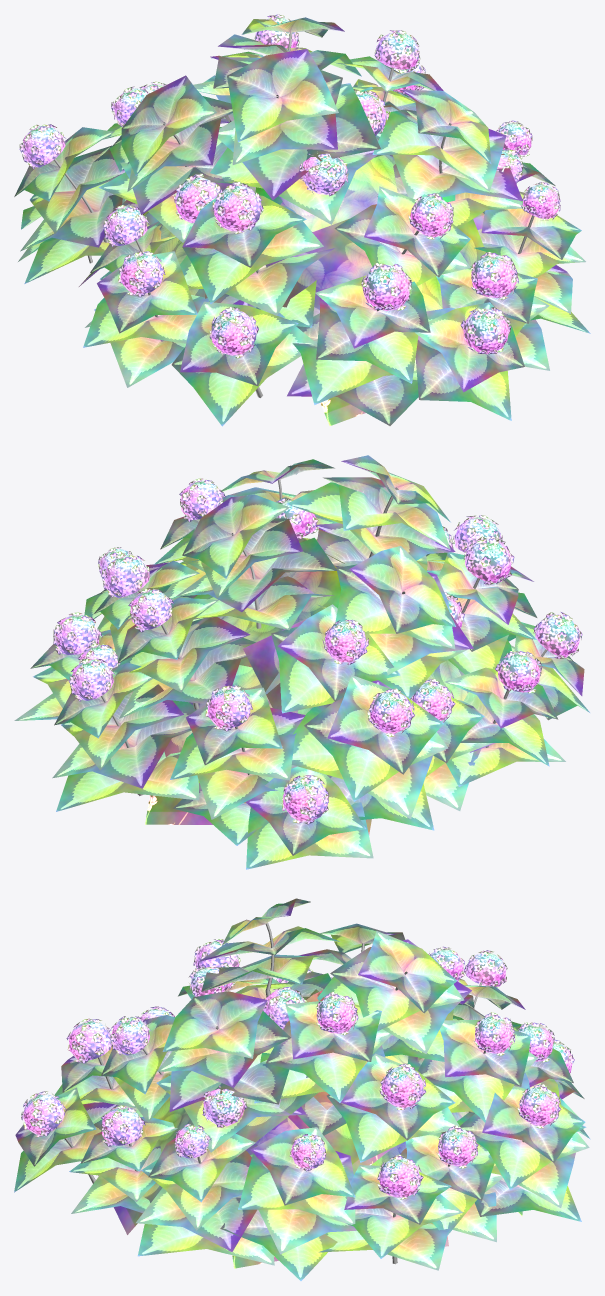
File: hydrangea_large_SM.fbx
The picture shows the model from 3 angles, top to bottom: view 1: azimuth 30°, elevation 25°; view 2: azimuth 150°, elevation 25°; view 3: azimuth 270°, elevation 25°; orthographic projection. The views are drawn at different scales.
Visible parts, largest first — view 1: hydrangea_large_SM_LOD0; view 2: hydrangea_large_SM_LOD0; view 3: hydrangea_large_SM_LOD0.
Part boxes in pixels (x1,y1,x2,y2): hydrangea_large_SM_LOD0: (14,14,590,426); hydrangea_large_SM_LOD0: (14,455,589,869); hydrangea_large_SM_LOD0: (14,898,590,1280).
Bounding box in the file's own units: 598 × 678 × 349.
3 materials, 2 textured.
